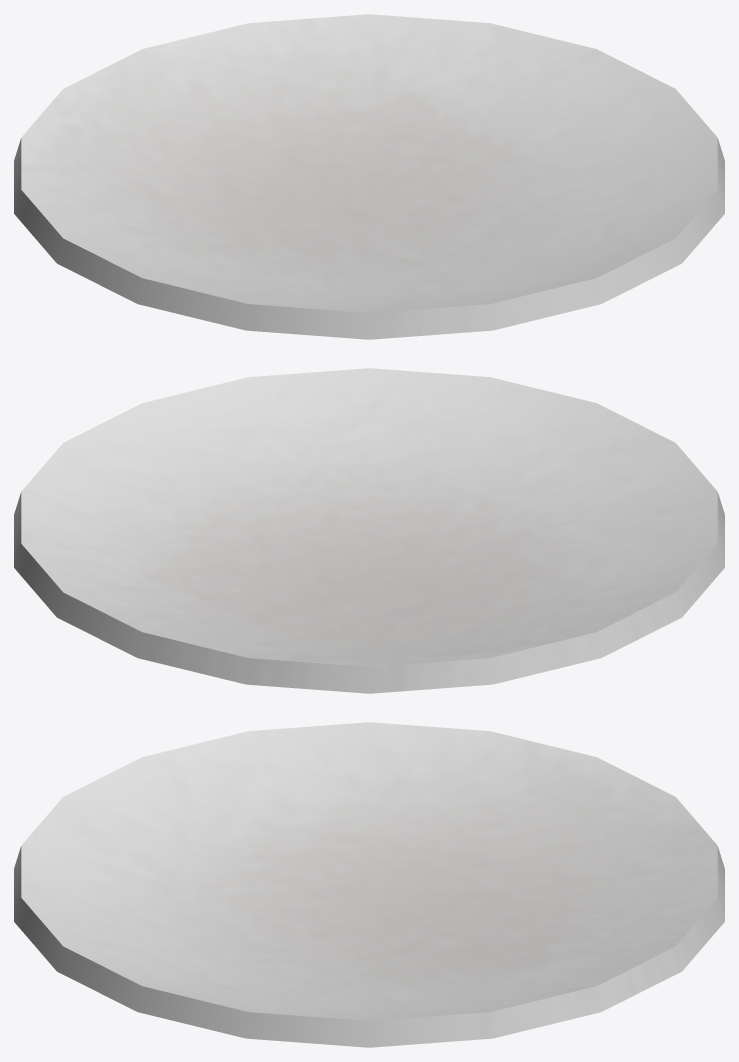
File: PlateE.FBX
3 renders of one model, top to bottom at view 1: azimuth 30°, elevation 25°; view 2: azimuth 150°, elevation 25°; view 3: azimuth 270°, elevation 25°, orthographic.
Parts seen in each view (by area): view 1: PlateE_LOD0; view 2: PlateE_LOD0; view 3: PlateE_LOD0.
Part boxes in pixels (x1=…): PlateE_LOD0: x1=14, y1=14, x2=724, y2=339; PlateE_LOD0: x1=14, y1=368, x2=724, y2=693; PlateE_LOD0: x1=14, y1=722, x2=724, y2=1047.
Size of what is drawn, in the model's own units: 14.63 by 1.53 by 14.41.
